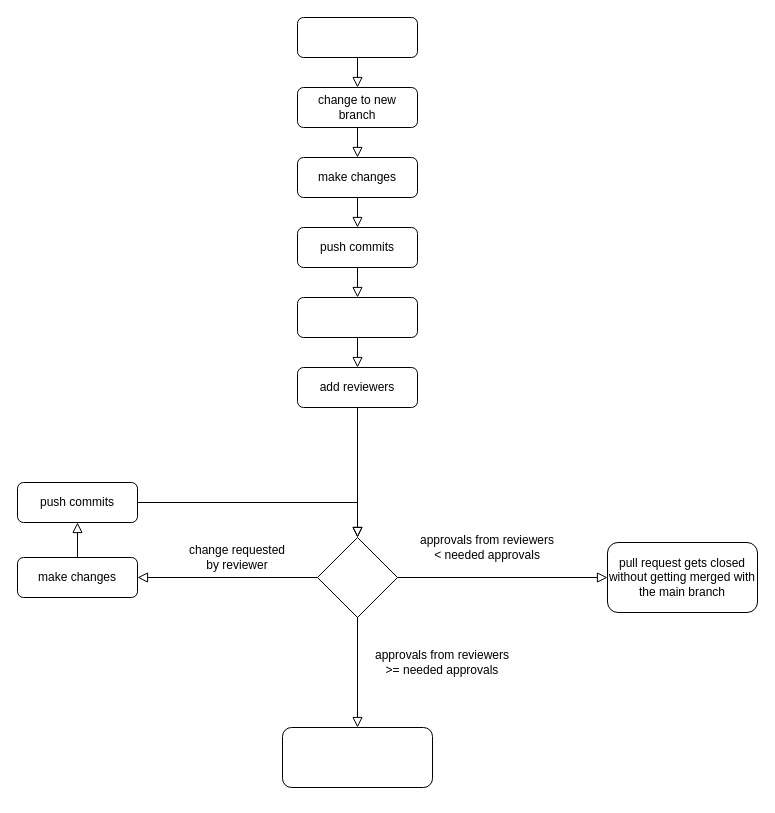
This 775x813 diagram has some shape labels left out. The centre of each missing label's shape, as x and y in pixels:
"create new branch" belongs at point 357,37.
"create pull request" belongs at point 357,317.
"pull request is completed with a merge to the main branch" belongs at point 357,757.
